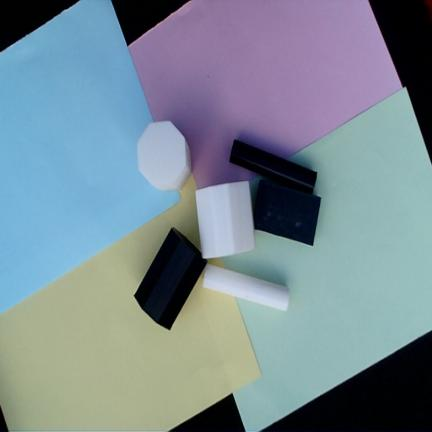Cilindro: (202, 263, 290, 311)
Paralelepipedo: (252, 178, 322, 247)
Prisma_hexagonal: (133, 226, 209, 331), (195, 179, 255, 259), (136, 120, 191, 191)
